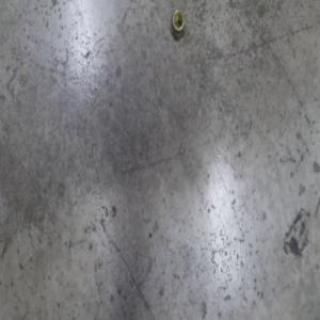Nuttrack_idkeyframe: (170, 6, 186, 40)
